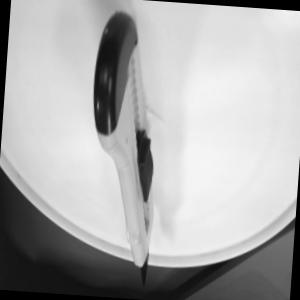estilete: (79, 8, 167, 288)
